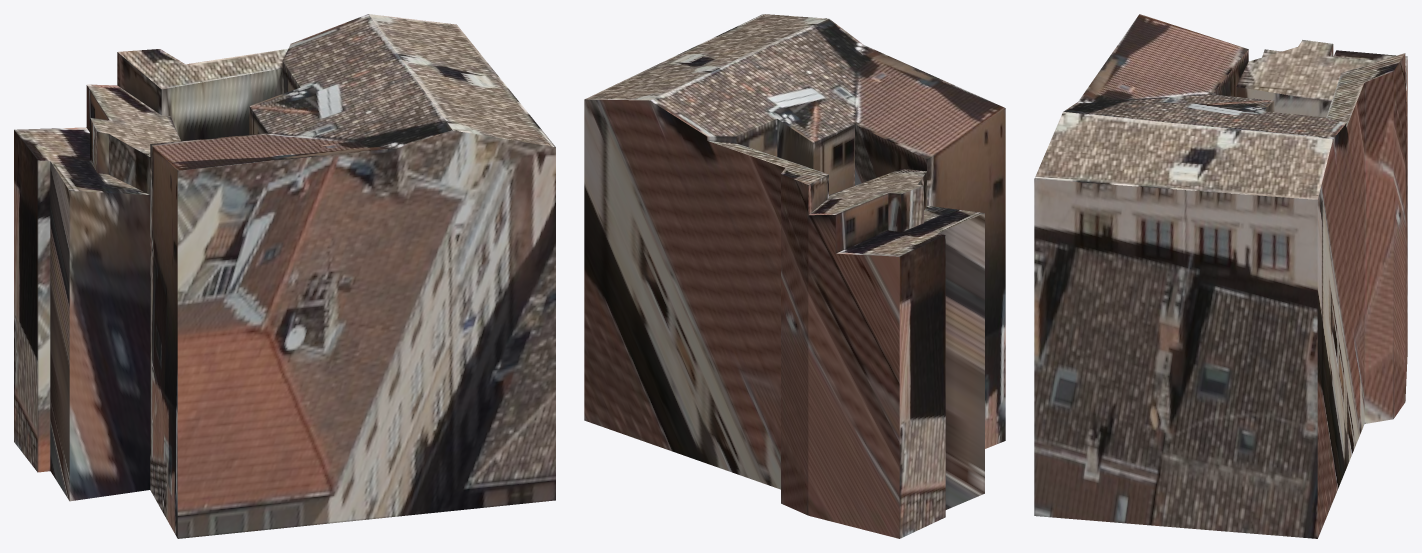
3 renders of one model, left to right at view 1: azimuth 30°, elevation 25°; view 2: azimuth 150°, elevation 25°; view 3: azimuth 270°, elevation 25°, orthographic. The views are drawn at different scales.
Visible parts, largest first — view 1: Z_UP; view 2: Z_UP; view 3: Z_UP.
Boxes of the visible parts, x1,y1,x2,y2 form: Z_UP: (14,14,555,538); Z_UP: (584,14,1005,538); Z_UP: (1034,14,1407,538).
Size of the model in its own units: 21.95 by 19.22 by 17.9.
Materials: 2 (1 with a texture image).
